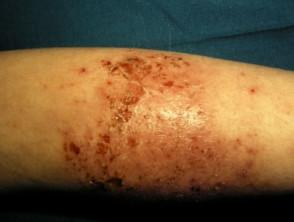Eczema: (153, 55, 192, 74), (103, 60, 150, 74), (62, 134, 82, 164), (118, 82, 143, 104), (112, 107, 134, 123), (161, 78, 178, 90)
